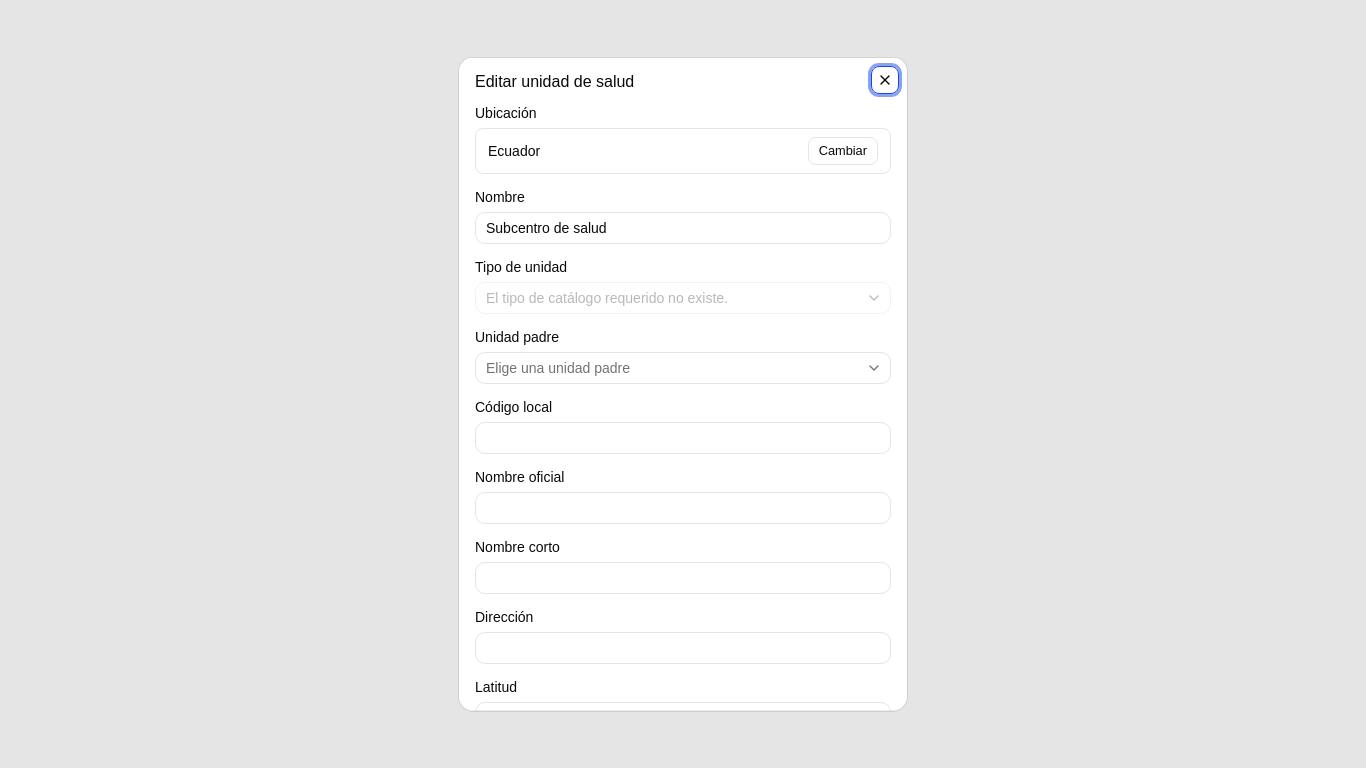
Test: HealthFacilityFormDialog — mapeo de errores (SPEC FE06 §3.7) › un 409 con HFAC_004_CIRCULAR_PARENT marca el campo unidad padre
Click the dropdown labelled "unidad padre" at point(558, 368), box left=475, top=352, right=891, bottom=384
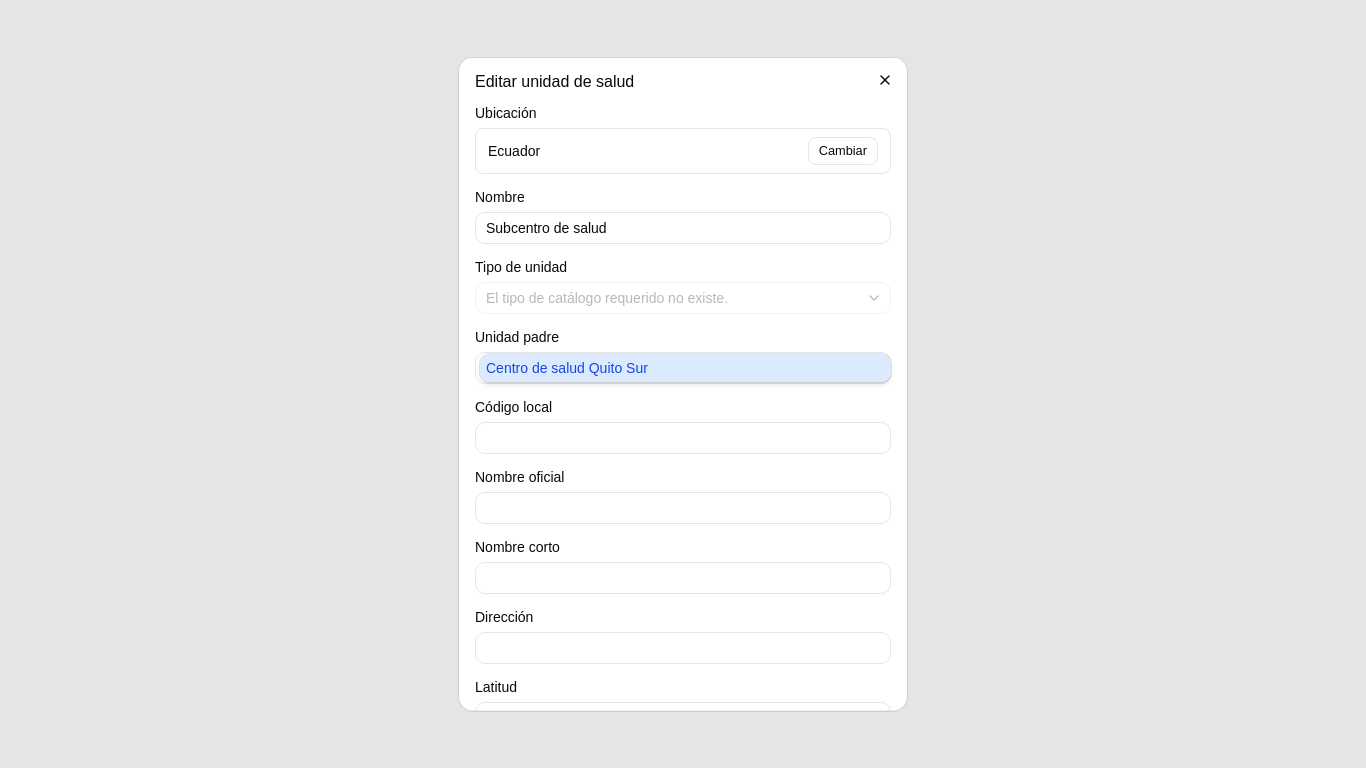
Click the option "Centro de salud Quito Sur" at point(567, 368), box left=480, top=354, right=891, bottom=382
(page scrolled)
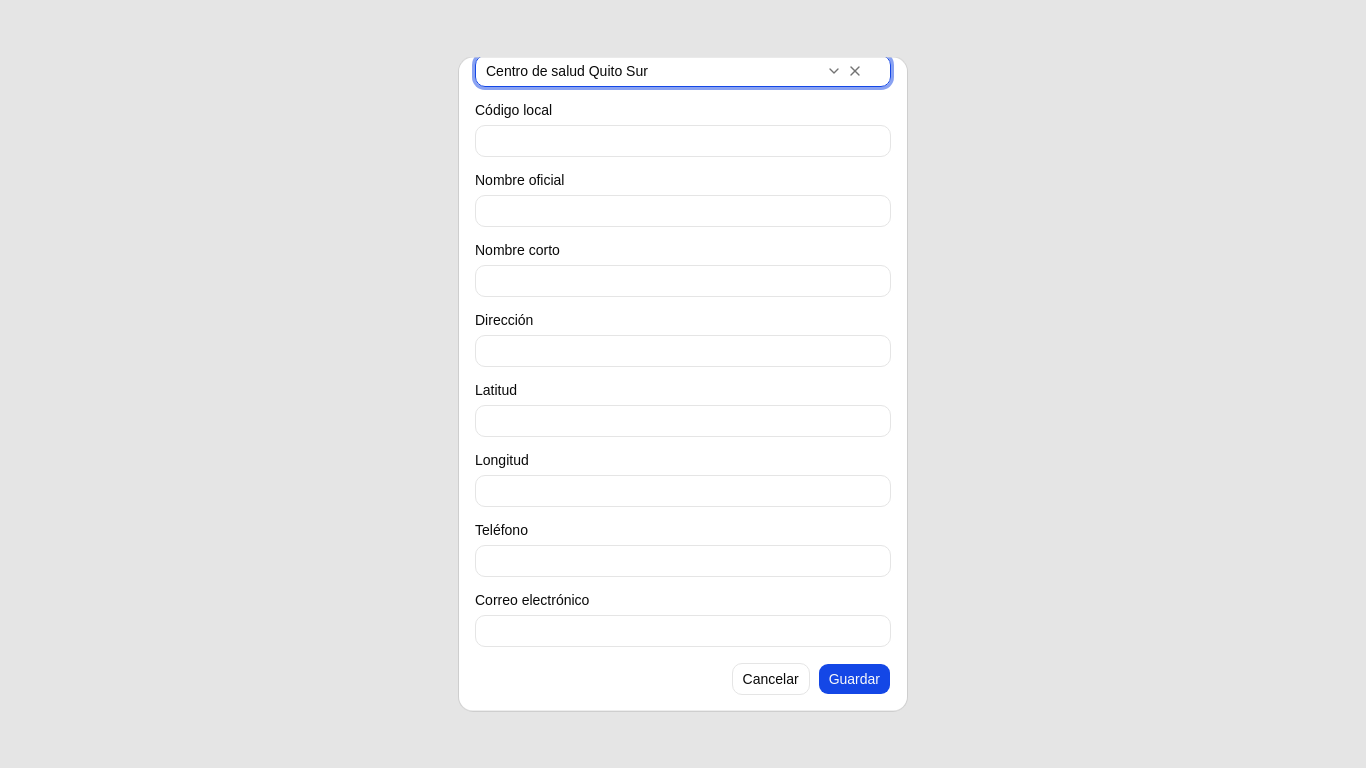
Click the button "Guardar" at point(854, 679), box left=818, top=663, right=891, bottom=695
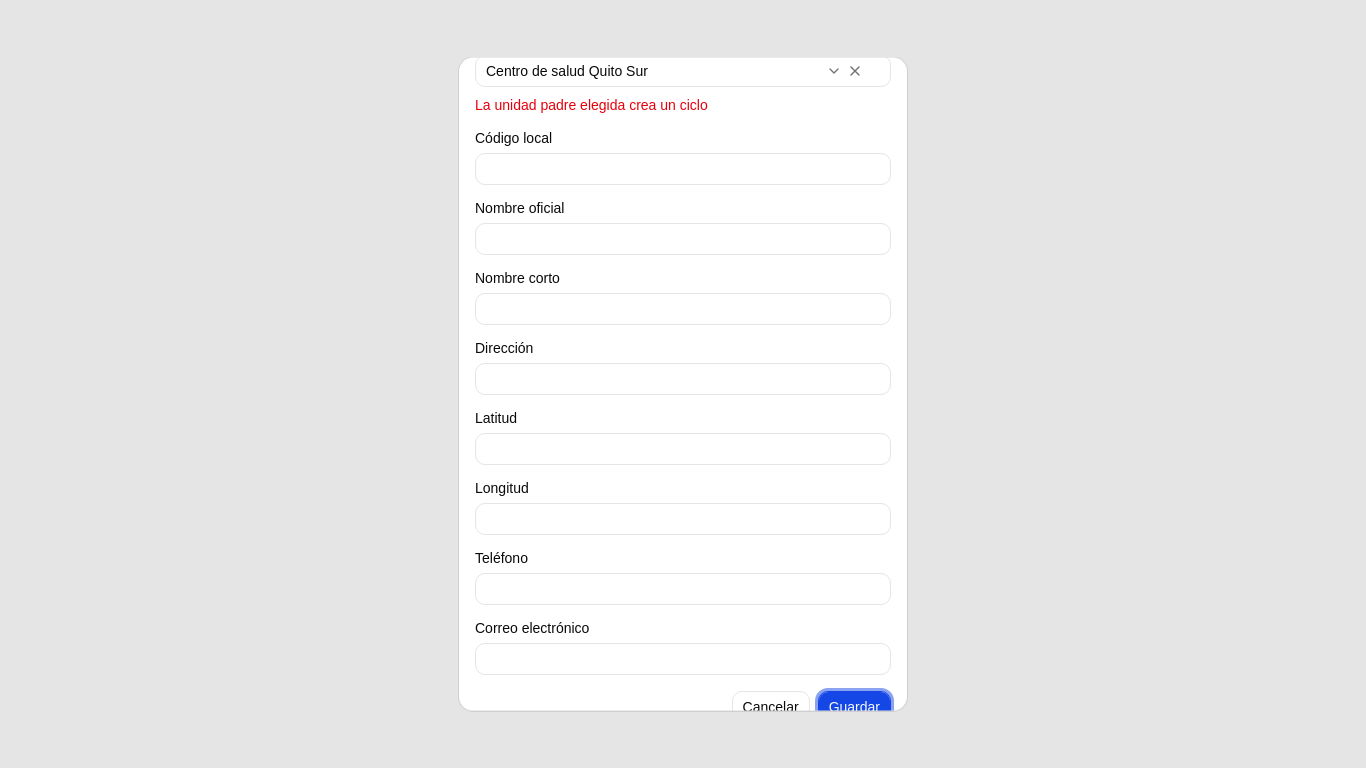
expect the text "La unidad padre elegida crea un ciclo" is shown: met, box left=475, top=97, right=708, bottom=113
